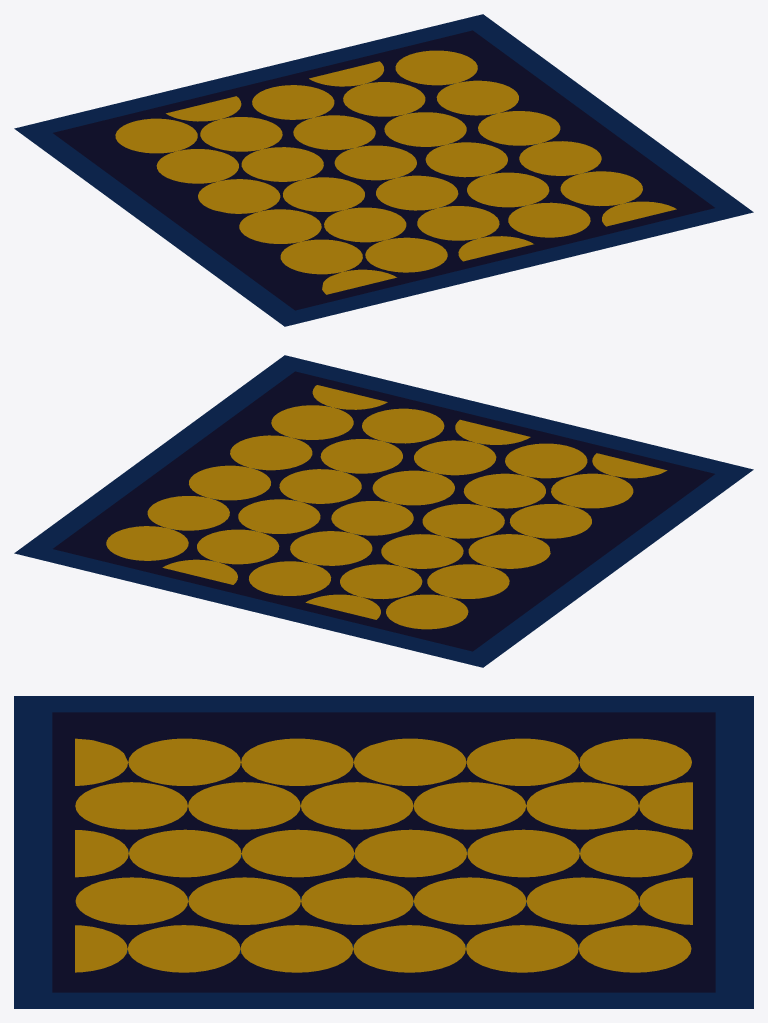
Rendered from Carper V1.fbx.
3 renders of one model, top to bottom at view 1: azimuth 30°, elevation 25°; view 2: azimuth 150°, elevation 25°; view 3: azimuth 270°, elevation 25°, orthographic. The views are drawn at different scales.
Parts seen in each view (by area): view 1: Carpet V1; view 2: Carpet V1; view 3: Carpet V1.
Boxes of the visible parts, x1,y1,x2,y2 form: Carpet V1: (14, 14, 753, 326); Carpet V1: (14, 355, 753, 667); Carpet V1: (14, 696, 753, 1008).
Bounding box in the file's own units: 200 × 0 × 200.
